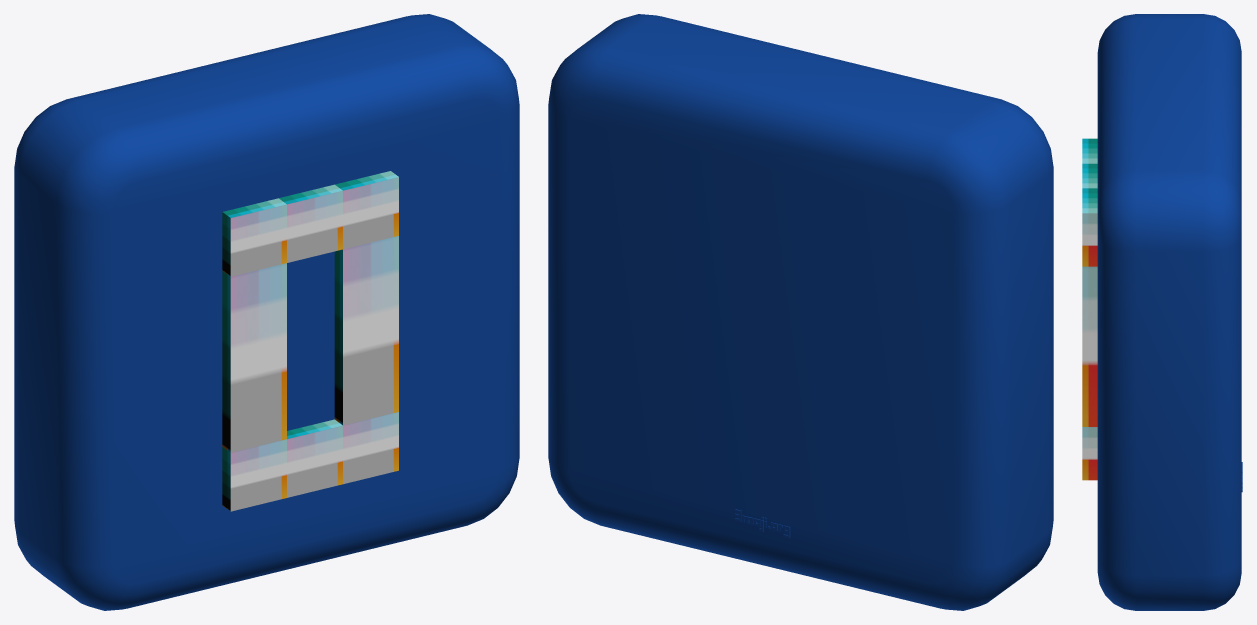
The model's file is keycap_0.fbx.
The picture shows the model from 3 angles, left to right: view 1: azimuth 30°, elevation 25°; view 2: azimuth 150°, elevation 25°; view 3: azimuth 270°, elevation 25°; orthographic projection. The views are drawn at different scales.
Visible parts, largest first — view 1: Cube.6672; view 2: Cube.6672; view 3: Cube.6672.
Boxes of the visible parts, bbox=[...] form: Cube.6672: bbox=[14, 14, 519, 610]; Cube.6672: bbox=[548, 14, 1053, 610]; Cube.6672: bbox=[1082, 14, 1242, 610].
Bounding box in the file's own units: 220 × 220 × 73.37.
1 material, 1 textured.
